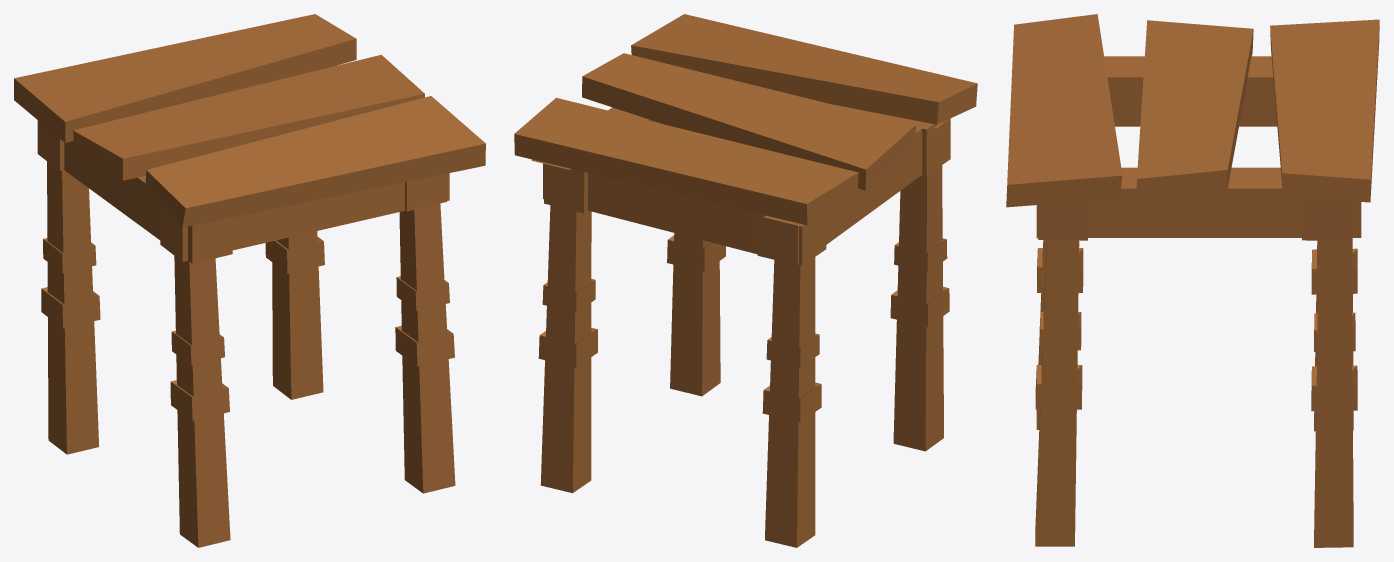
The model's file is Towermamininistedigi.fbx.
The picture shows the model from 3 angles, left to right: view 1: azimuth 30°, elevation 25°; view 2: azimuth 150°, elevation 25°; view 3: azimuth 270°, elevation 25°; orthographic projection. The views are drawn at different scales.
Parts seen in each view (by area): view 1: AnyConv.com__towerunity, ayak4, ayak2, ayak3, ayak1; view 2: AnyConv.com__towerunity, ayak3, ayak1, ayak4, ayak2; view 3: AnyConv.com__towerunity, ayak2, ayak1, ayak4, ayak3.
Part boxes in pixels (x1,y1,x2,y2): AnyConv.com__towerunity: (14,14,485,263); ayak4: (170,256,230,547); ayak2: (395,203,455,493); ayak3: (41,161,100,454); ayak1: (265,231,324,399); AnyConv.com__towerunity: (514,14,977,265); ayak3: (762,257,821,547); ayak1: (538,205,597,493); ayak4: (890,165,949,451); ayak2: (667,233,725,396); AnyConv.com__towerunity: (1006,14,1379,240); ayak2: (1035,240,1082,546); ayak1: (1311,240,1357,547); ayak4: (1036,240,1083,429); ayak3: (1311,238,1357,431).
Bounding box in the file's own units: 1182 × 1383 × 1204.
